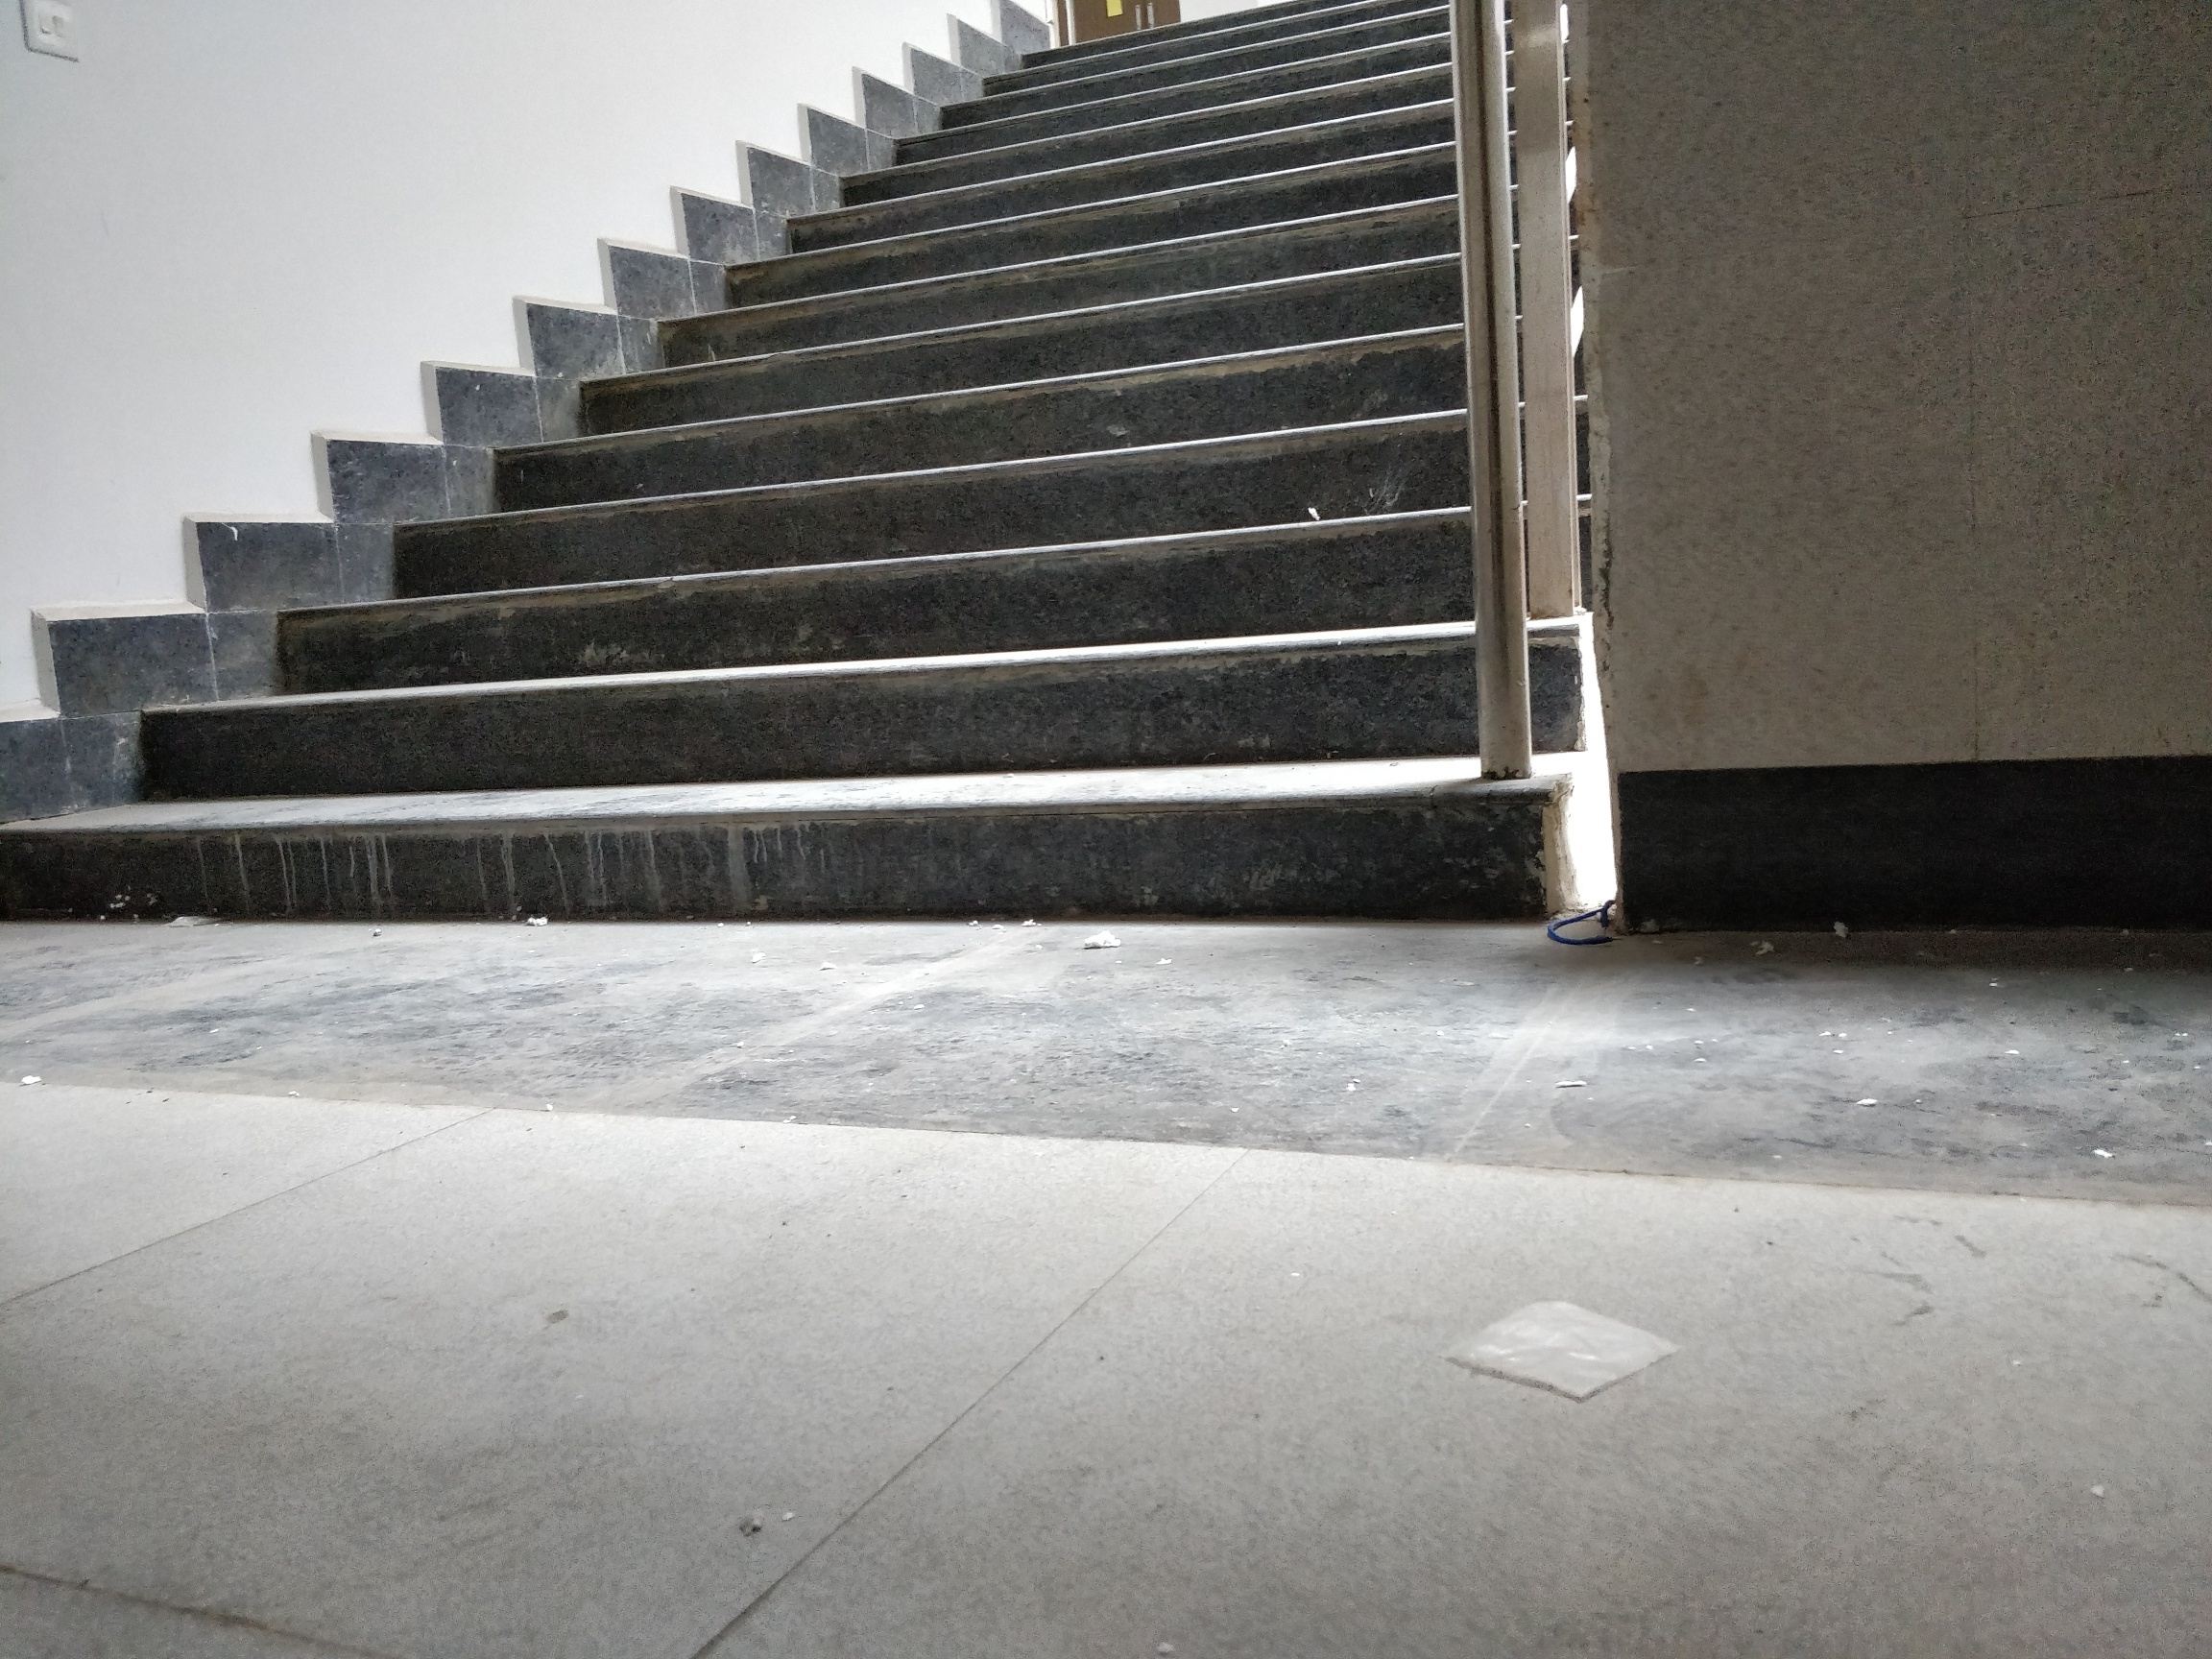stairs_up: (5, 17, 1501, 938)
